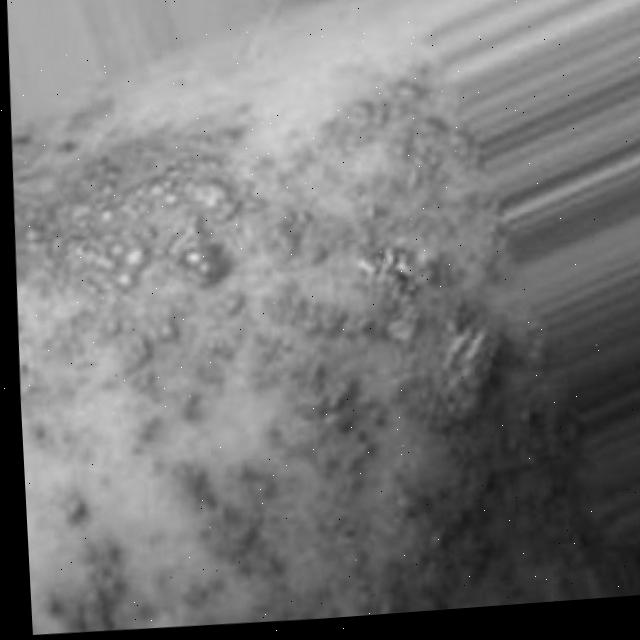Shingles: (4, 46, 500, 640)
